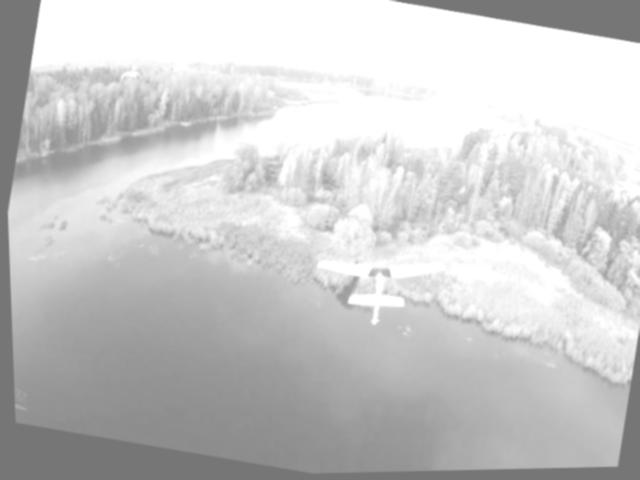hedef: (300, 222, 454, 346)
